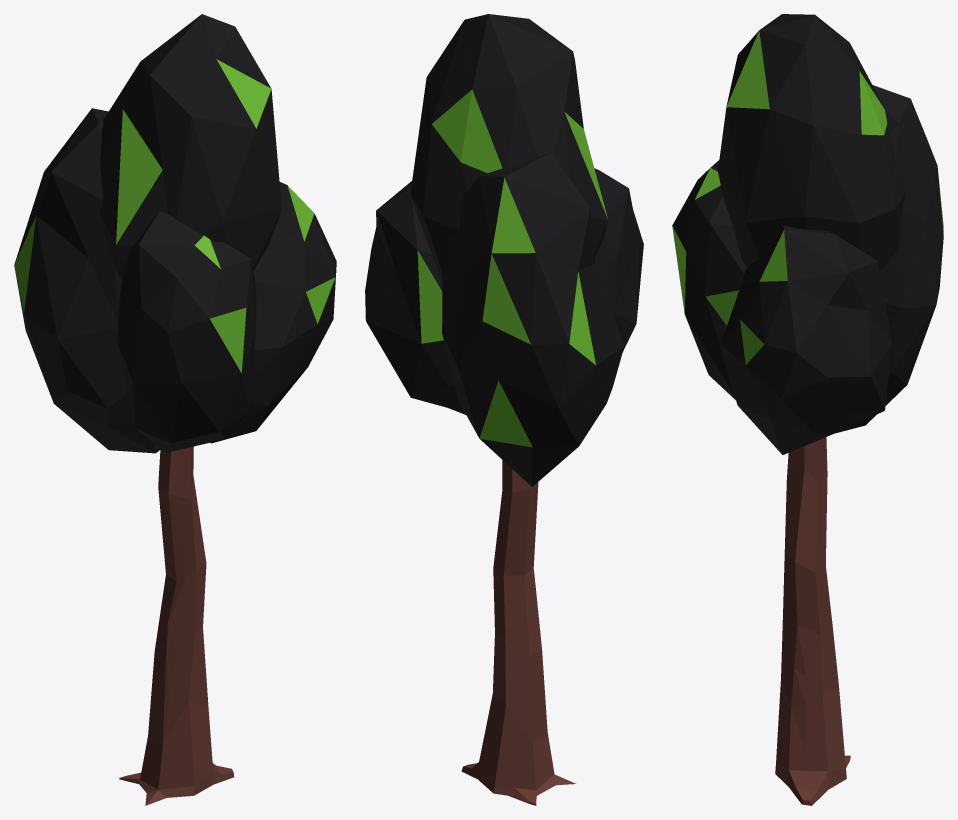
File: Poplar_small.fbx
The picture shows the model from 3 angles, left to right: view 1: azimuth 30°, elevation 25°; view 2: azimuth 150°, elevation 25°; view 3: azimuth 270°, elevation 25°; orthographic projection.
Visible parts, largest first — view 1: poplar_crown_Small, poplar_trunk_Small; view 2: poplar_crown_Small, poplar_trunk_Small; view 3: poplar_crown_Small, poplar_trunk_Small.
Part boxes in pixels (x1,y1,x2,y2): poplar_crown_Small: (14,14,336,453); poplar_trunk_Small: (119,446,234,805); poplar_crown_Small: (365,14,643,486); poplar_trunk_Small: (461,460,575,805); poplar_crown_Small: (672,14,943,454); poplar_trunk_Small: (775,437,850,805).
Size of the model in its own units: 65.01 by 177 by 55.98.
